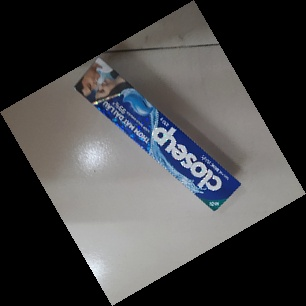CloseUp Tuyet: (74, 58, 242, 215)
